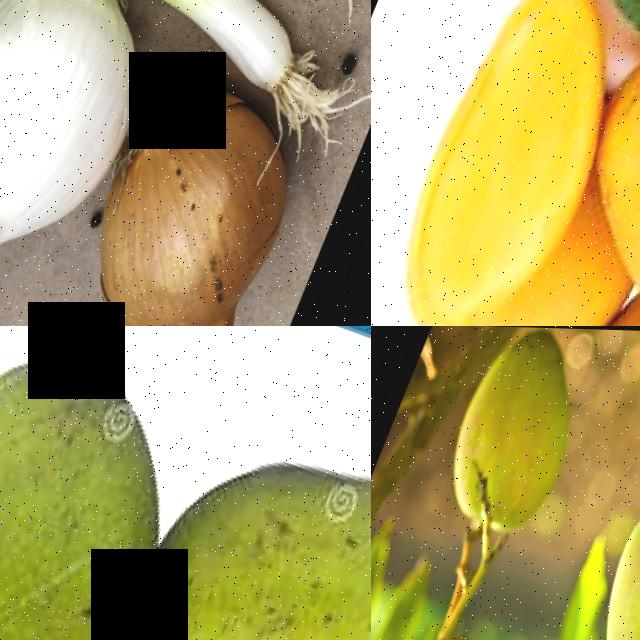mango: (371, 0, 640, 326), (0, 326, 228, 640), (120, 403, 371, 640), (427, 326, 609, 546), (549, 40, 640, 326), (582, 483, 640, 640)
onion: (71, 66, 330, 326), (0, 0, 186, 314)
